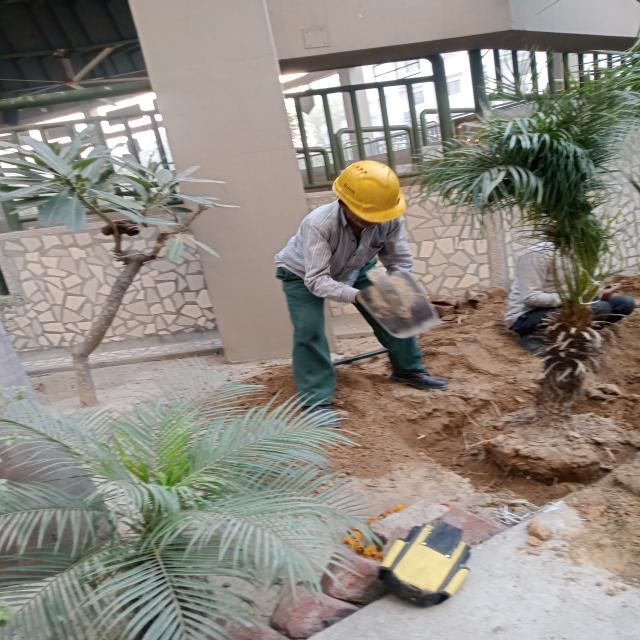no jacket: (272, 154, 444, 405)
